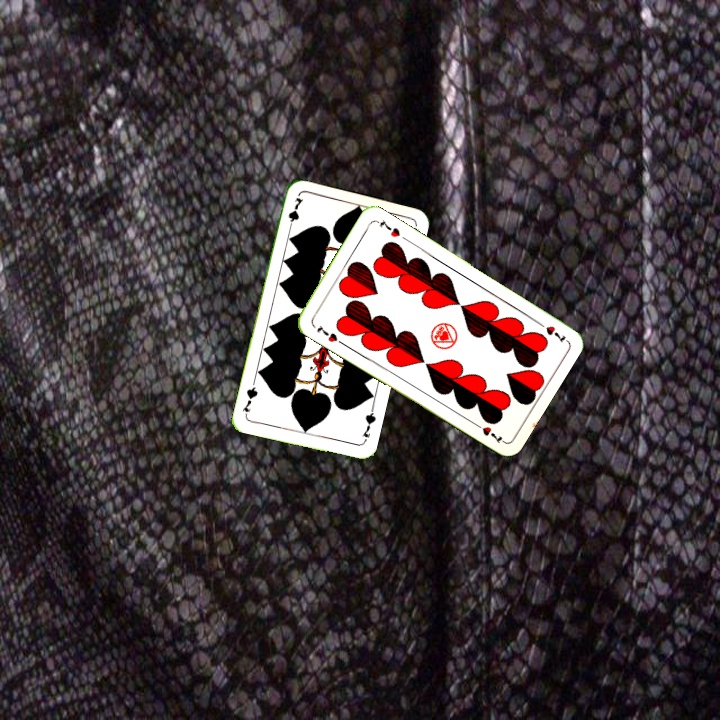G7: (284, 193, 306, 234), (358, 405, 378, 445)
H7: (533, 317, 568, 345), (313, 321, 340, 345)
